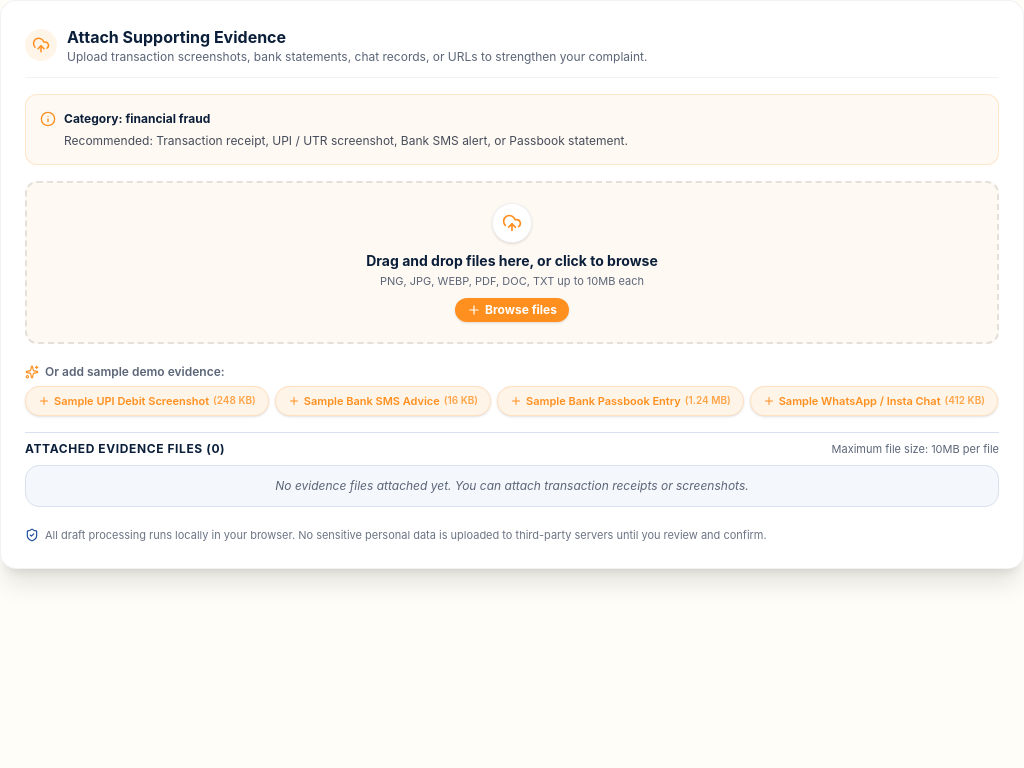
it: EvidenceUploader Component › rejects duplicate files with clear feedback
What coordinates should you click on to do the following:
click the button "Sample UPI Debit Screenshot (248 KB)"
I would click on:
 (147, 401)
Its box is [25,386,269,416].
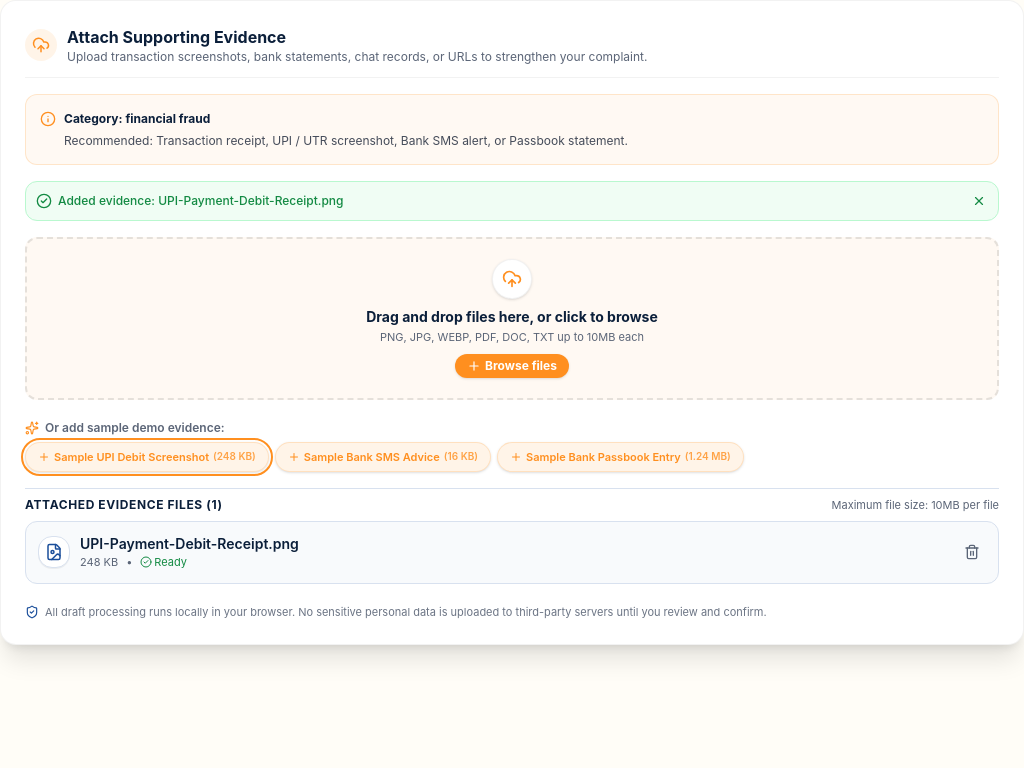
Note: Click same chip again
What coordinates should you click on to do the following:
click the button "Sample UPI Debit Screenshot (248 KB)"
I would click on:
 (147, 457)
Its box is [25,442,269,472].
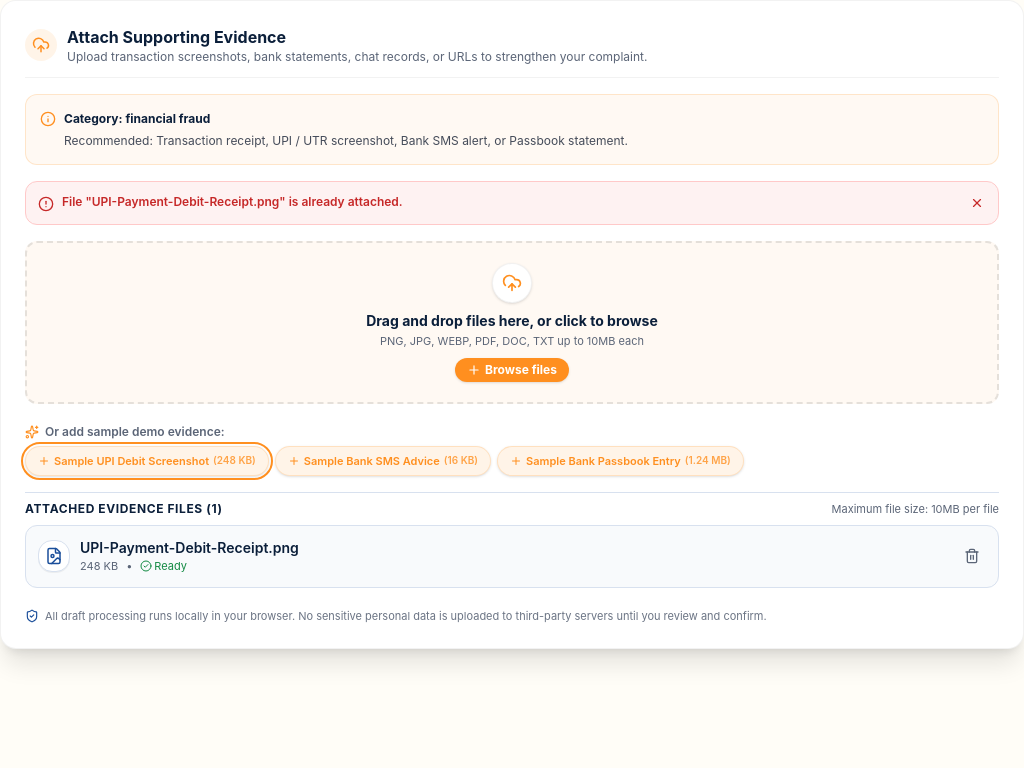
Check: the message "File \"UPI-Payment-Debit-Receipt.png\" is already attached." is shown, box [25,181,999,225]
Check: the text "File \"UPI-Payment-Debit-Receipt.png\" is already attached." is shown, box [62,194,403,209]
